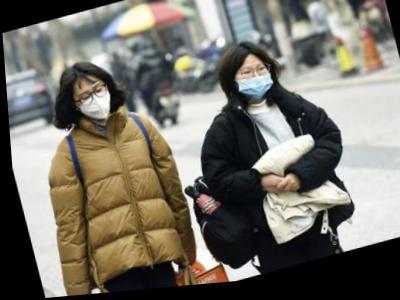OK: (69, 81, 115, 128)
WRONG: (232, 63, 275, 109)
